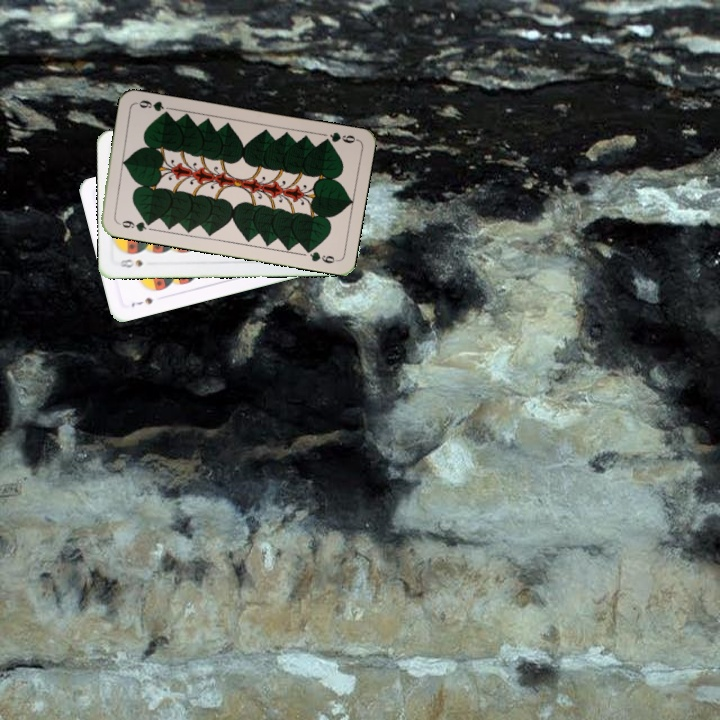G9: (318, 128, 360, 146), (113, 216, 154, 234)
S7: (127, 293, 155, 310)
S8: (114, 255, 146, 270)
